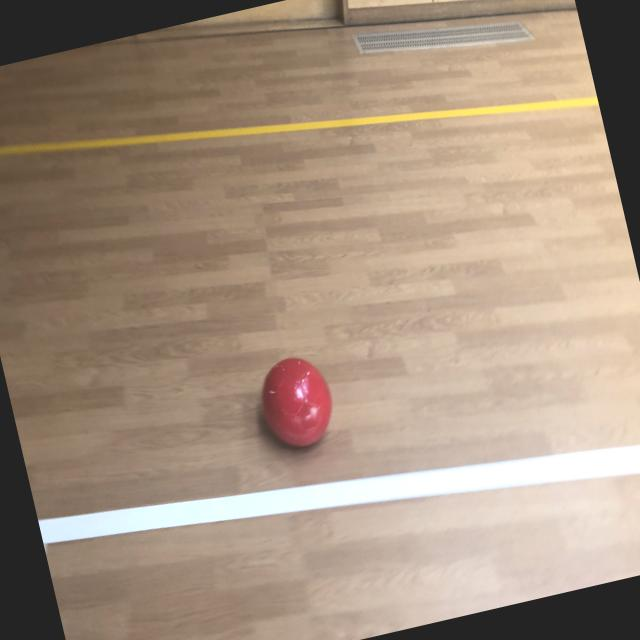red_ball: (251, 349, 343, 456)
